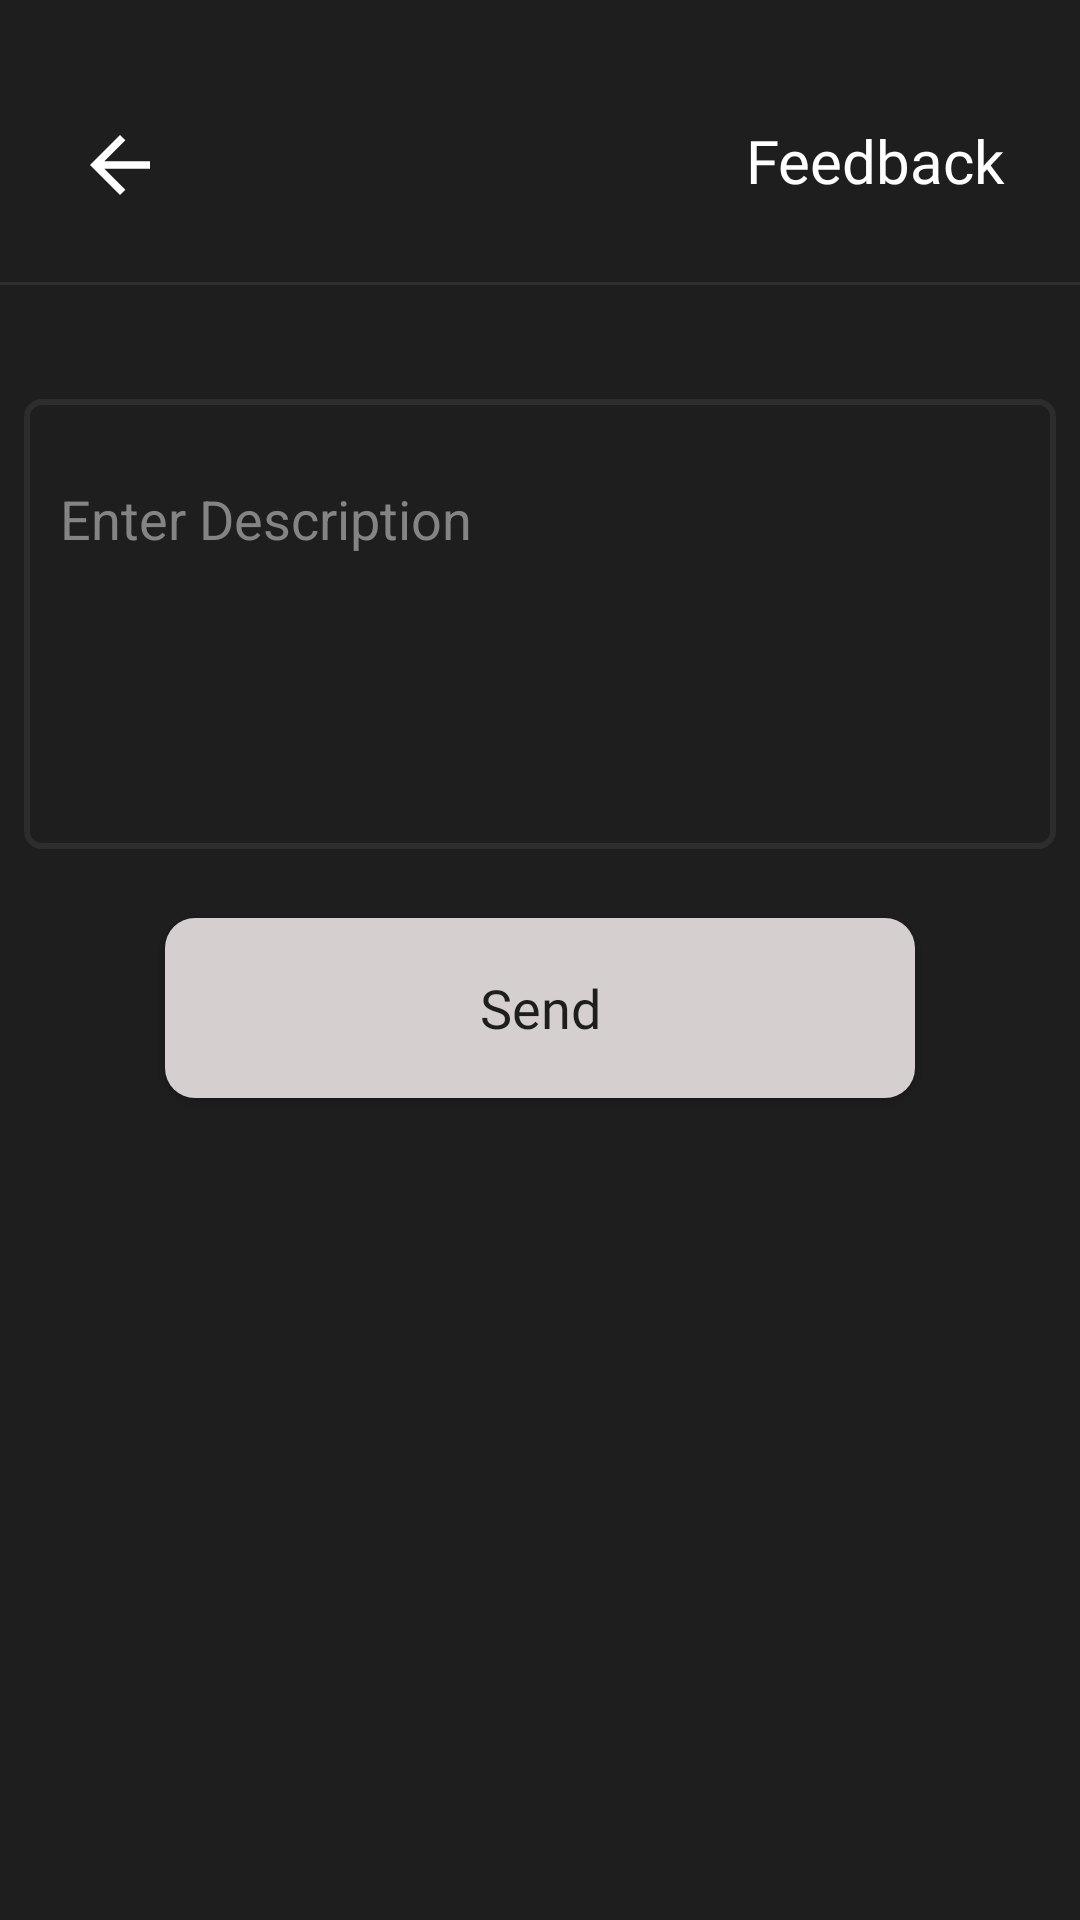

Where icons sit on this 1080×1920 app screen, as (x1, y1, x2, y2):
arrow back: (90, 135, 150, 195)
